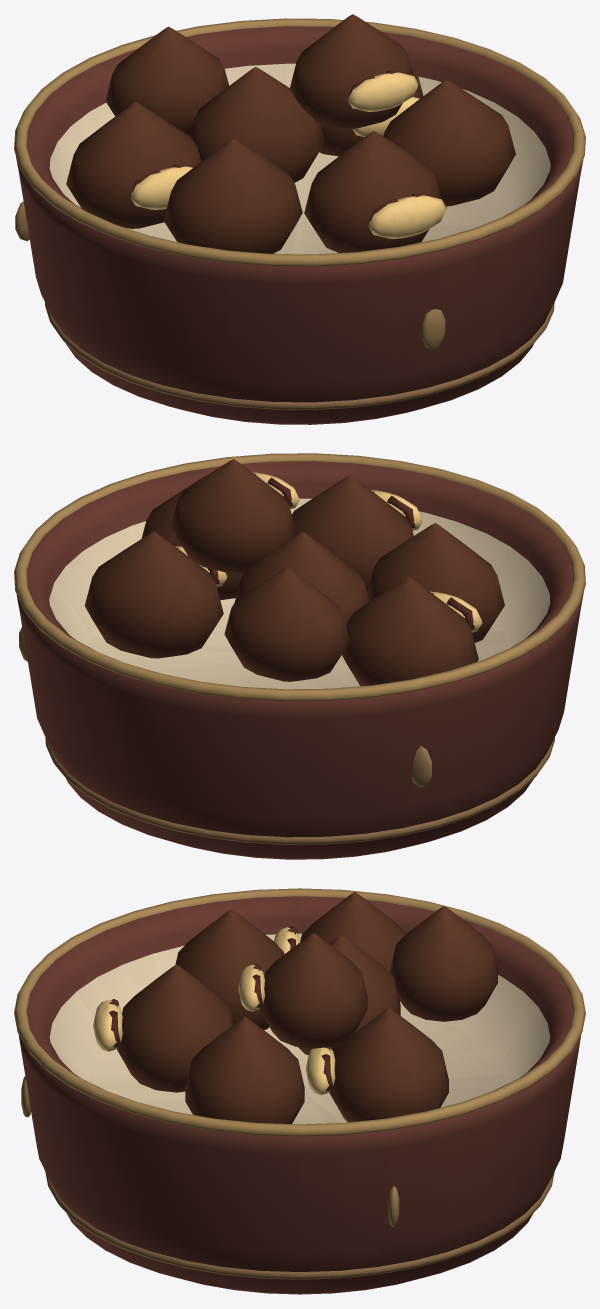
File: roasted-chestnuts.glb
3 renders of one model, top to bottom at view 1: azimuth 30°, elevation 25°; view 2: azimuth 150°, elevation 25°; view 3: azimuth 270°, elevation 25°, orthographic.
Parts seen in each view (by area): view 1: Burgundy_festival_basket, Antique_brass_basket_rim, Roasted_chestnut_00_pointed_roasted_shell, Warm_cream_basket_lining, Roasted_chestnut_02_pointed_roasted_shell, Roasted_chestnut_01_pointed_roasted_shell, Roasted_chestnut_03_pointed_roasted_shell, Roasted_chestnut_04_pointed_roasted_shell, Roasted_chestnut_07_pointed_roasted_shell, Roasted_chestnut_06_pointed_roasted_shell, Basket_lower_brass_band, Roasted_chestnut_01_exposed_gold_kernel (+5 smaller); view 2: Burgundy_festival_basket, Warm_cream_basket_lining, Antique_brass_basket_rim, Roasted_chestnut_05_pointed_roasted_shell, Roasted_chestnut_06_pointed_roasted_shell, Roasted_chestnut_03_pointed_roasted_shell, Roasted_chestnut_07_pointed_roasted_shell, Roasted_chestnut_00_pointed_roasted_shell, Roasted_chestnut_01_pointed_roasted_shell, Roasted_chestnut_04_pointed_roasted_shell, Basket_lower_brass_band, Roasted_chestnut_02_pointed_roasted_shell (+1 smaller); view 3: Burgundy_festival_basket, Warm_cream_basket_lining, Antique_brass_basket_rim, Roasted_chestnut_05_pointed_roasted_shell, Roasted_chestnut_02_pointed_roasted_shell, Roasted_chestnut_01_pointed_roasted_shell, Roasted_chestnut_06_pointed_roasted_shell, Roasted_chestnut_07_pointed_roasted_shell, Roasted_chestnut_00_pointed_roasted_shell, Basket_lower_brass_band, Roasted_chestnut_03_pointed_roasted_shell, Roasted_chestnut_04_pointed_roasted_shell (+3 smaller).
Boxes of the visible parts, x1,y1,x2,y2 form: Burgundy_festival_basket: (16, 26, 583, 424); Antique_brass_basket_rim: (14, 18, 585, 266); Roasted_chestnut_00_pointed_roasted_shell: (163, 138, 302, 253); Warm_cream_basket_lining: (49, 63, 550, 254); Roasted_chestnut_02_pointed_roasted_shell: (383, 79, 515, 206); Roasted_chestnut_01_pointed_roasted_shell: (304, 131, 441, 252); Roasted_chestnut_03_pointed_roasted_shell: (66, 102, 201, 228); Roasted_chestnut_04_pointed_roasted_shell: (189, 67, 324, 182); Roasted_chestnut_07_pointed_roasted_shell: (289, 14, 413, 128); Roasted_chestnut_06_pointed_roasted_shell: (105, 26, 228, 135); Basket_lower_brass_band: (45, 302, 554, 409); Roasted_chestnut_01_exposed_gold_kernel: (368, 195, 446, 239); Burgundy_festival_basket: (16, 461, 583, 859); Warm_cream_basket_lining: (49, 498, 550, 689); Antique_brass_basket_rim: (14, 453, 585, 701); Roasted_chestnut_05_pointed_roasted_shell: (84, 531, 223, 658); Roasted_chestnut_06_pointed_roasted_shell: (224, 567, 350, 681); Roasted_chestnut_03_pointed_roasted_shell: (342, 577, 478, 686); Roasted_chestnut_07_pointed_roasted_shell: (170, 459, 296, 573); Roasted_chestnut_00_pointed_roasted_shell: (367, 523, 504, 642); Roasted_chestnut_01_pointed_roasted_shell: (292, 475, 413, 591); Roasted_chestnut_04_pointed_roasted_shell: (234, 532, 369, 625); Basket_lower_brass_band: (45, 737, 554, 844); Roasted_chestnut_02_pointed_roasted_shell: (141, 474, 243, 600); Burgundy_festival_basket: (18, 896, 581, 1294); Warm_cream_basket_lining: (49, 933, 550, 1124); Antique_brass_basket_rim: (14, 888, 585, 1136); Roasted_chestnut_05_pointed_roasted_shell: (329, 1008, 448, 1122); Roasted_chestnut_02_pointed_roasted_shell: (185, 1016, 304, 1123); Roasted_chestnut_01_pointed_roasted_shell: (117, 964, 233, 1092); Roasted_chestnut_06_pointed_roasted_shell: (390, 906, 497, 1021); Roasted_chestnut_07_pointed_roasted_shell: (259, 933, 367, 1048); Roasted_chestnut_00_pointed_roasted_shell: (175, 909, 284, 1029); Basket_lower_brass_band: (45, 1172, 554, 1279); Roasted_chestnut_03_pointed_roasted_shell: (300, 892, 406, 1001); Roasted_chestnut_04_pointed_roasted_shell: (298, 934, 400, 1056).
Size of the model in its own units: 0.834 by 0.4921 by 0.834.
